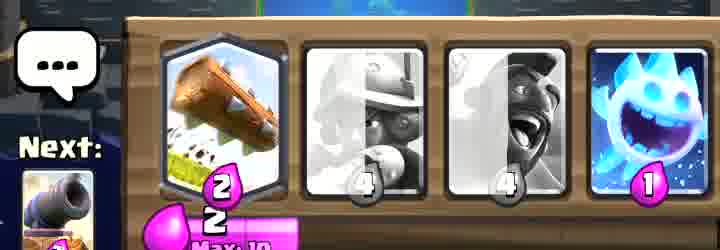cannon: (21, 171, 94, 250)
ice-spirit: (595, 46, 711, 199)
log: (168, 40, 283, 186)
